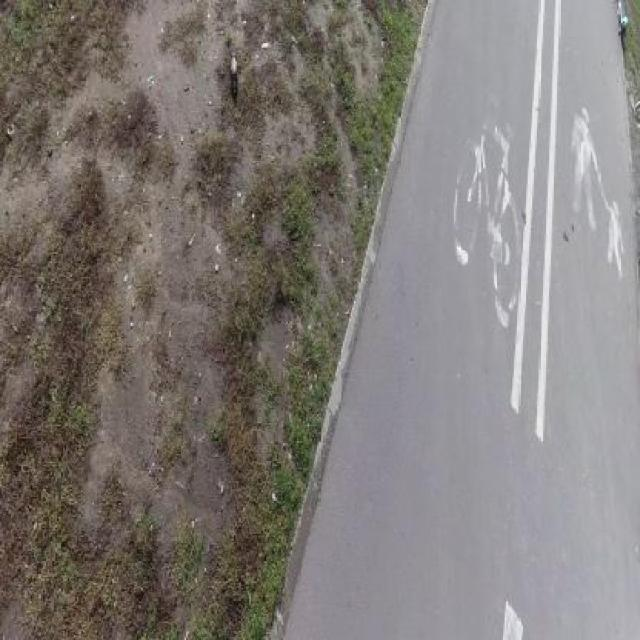Garbage: (231, 52, 238, 96)
